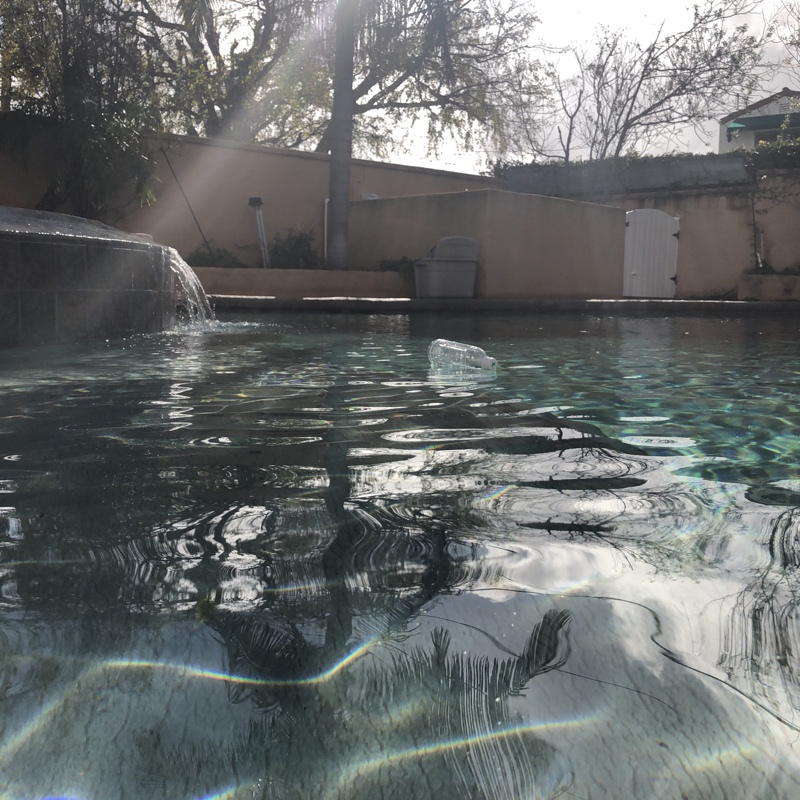Plastic Bottle: (423, 336, 504, 381)
